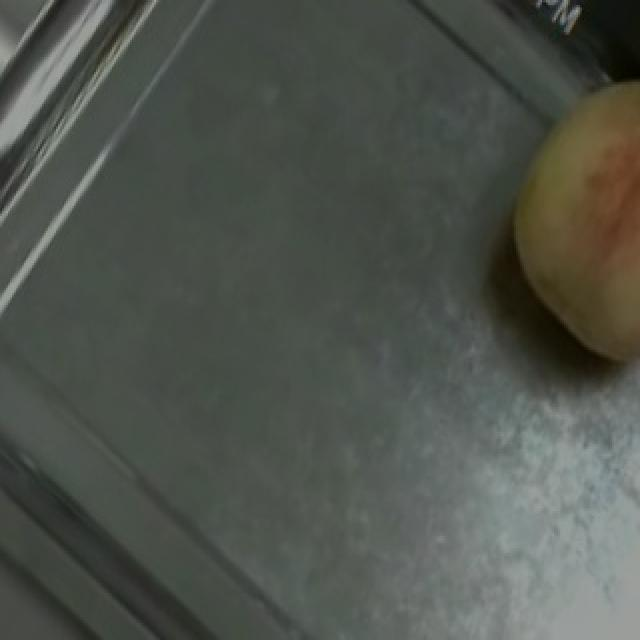Fruit: (464, 50, 640, 387)
